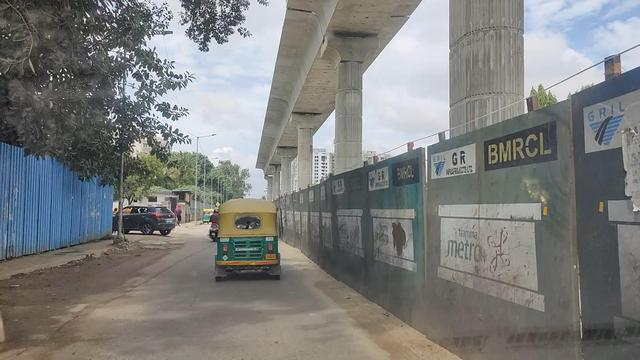LMV: (213, 195, 288, 280)
